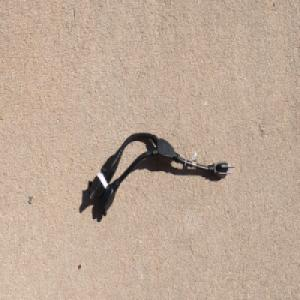Wire: (85, 131, 236, 218)
